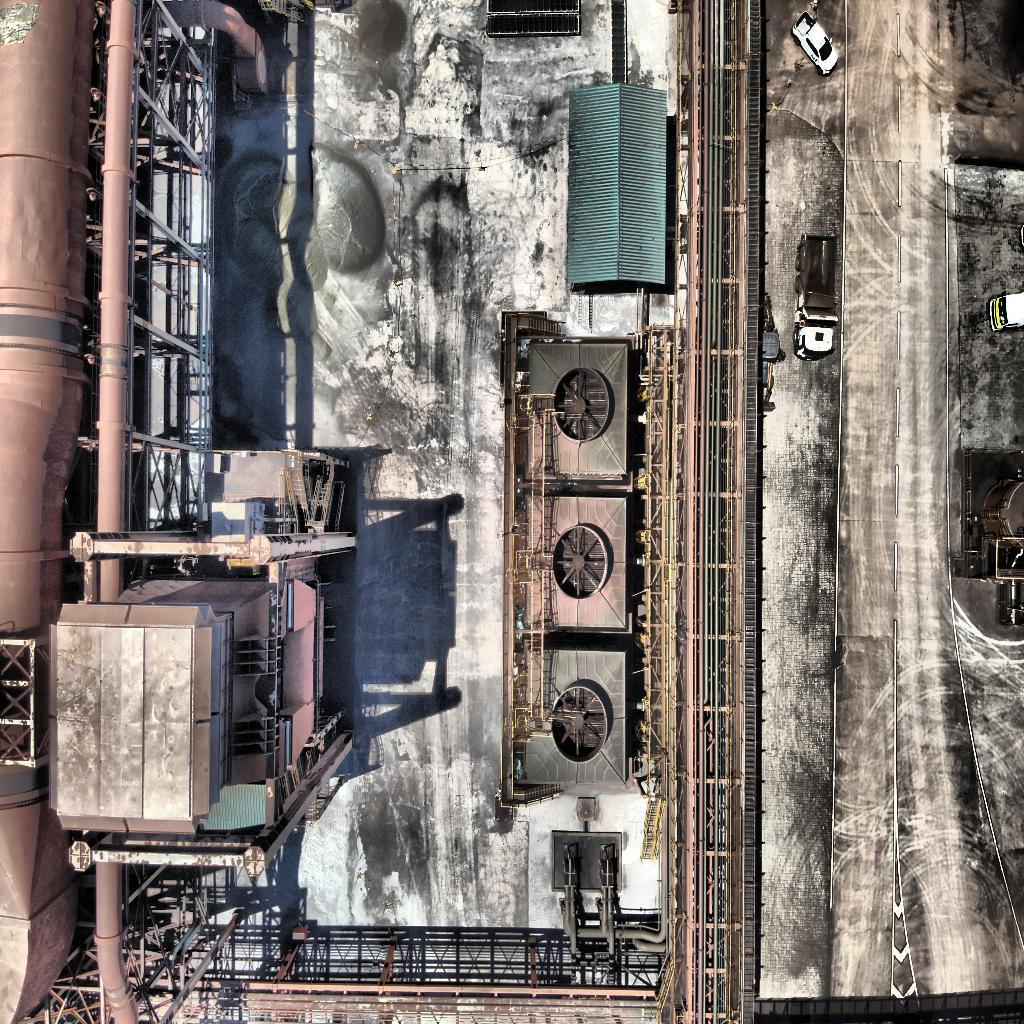Failures: (0, 4, 42, 46)
